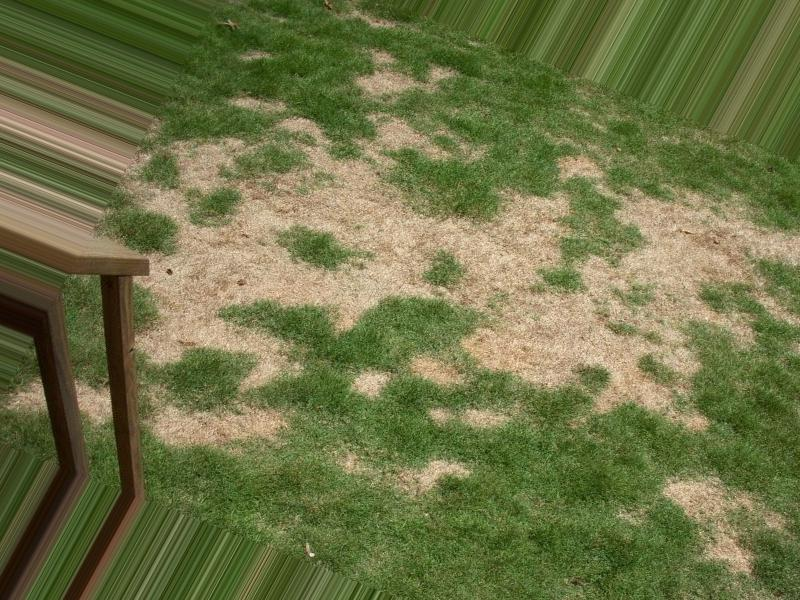patch: (272, 182, 443, 283), (574, 160, 708, 259), (478, 272, 598, 374), (670, 458, 772, 565), (346, 427, 454, 505), (158, 324, 264, 396), (296, 307, 388, 369), (624, 277, 682, 348), (185, 225, 237, 294), (167, 415, 254, 451), (490, 200, 546, 248)
